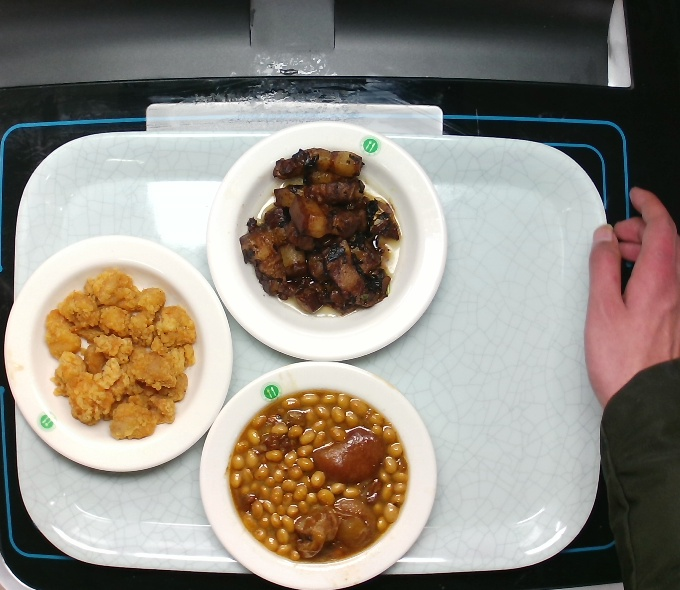wcq-GanCaiRou: (232, 142, 408, 319)
wcq-HuangDouZhuJiao: (220, 382, 413, 572)
wcq-JiMiHua: (37, 263, 202, 449)
